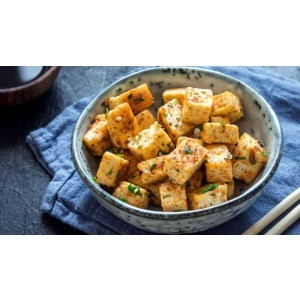tofu_brain food: (115, 88, 239, 191)
